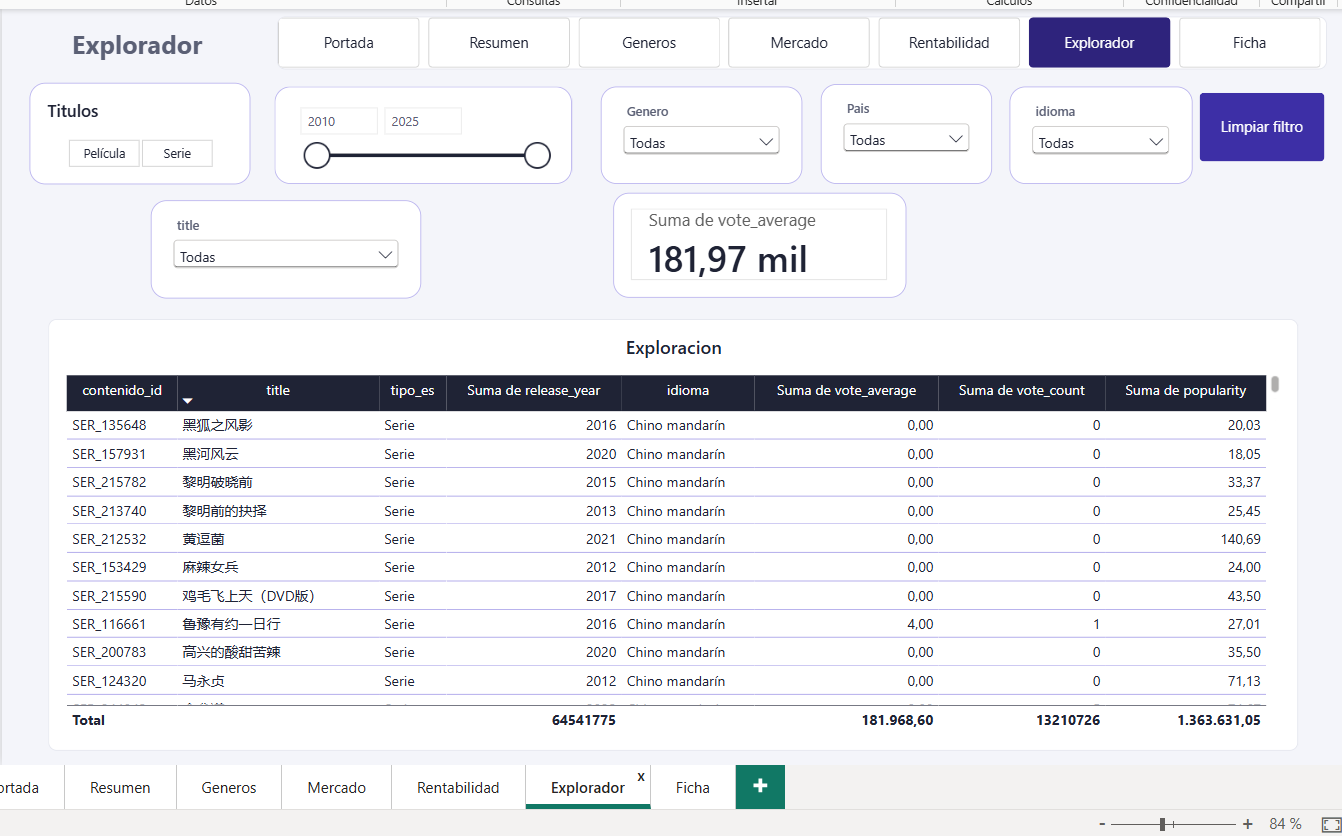

Layout of this report page (visuals, bound fields, positions):
{"tool":"powerbi","page":{"name":"Explorador","canvas":[1280,720],"ordinal":5},"visuals":[{"type":"textbox","box":[10,0,238.3,63.3],"z":0},{"type":"actionButton","box":[1140,80,119.1,65.5],"z":1000},{"type":"pageNavigator","box":[262,7,1000,50],"z":2000},{"type":"slicer","fields":{"Values":["dim_idioma.idioma"]},"box":[959,74,174,93],"z":3000},{"type":"slicer","fields":{"Values":["dim_pais.pais_nombre"]},"box":[780,72,163,95],"z":4000},{"type":"slicer","fields":{"Values":["dim_genero.genero_agrupado"]},"box":[570,74,192,93],"z":5000},{"type":"slicer","fields":{"Values":["fact_contenidos.release_year"]},"box":[259,74,283,93],"z":6000},{"type":"slicer","title":"Titulos","fields":{"Values":["fact_contenidos.tipo_es"]},"box":[26,70,210,97],"z":7000},{"type":"tableEx","title":"Exploracion","fields":{"Values":["fact_contenidos.contenido_id","fact_contenidos.title","fact_contenidos.tipo_es","Sum(fact_contenidos.release_year)","dim_idioma.idioma","Sum(fact_contenidos.vote_average)","Sum(fact_contenidos.vote_count)","Sum(fact_contenidos.popularity)"]},"box":[44.4,295.6,1190,411.1],"z":8000},{"type":"cardVisual","fields":{"Data":["Sum(fact_contenidos.vote_average)"]},"box":[582.2,175.6,278.9,100],"z":9000},{"type":"slicer","fields":{"Values":["fact_contenidos.title"]},"box":[142.2,182.2,257.8,93.3],"z":10000}]}

Visuals, with their boxes on the page's 1280x720 design canvas (x1, y1, x2, y2). These are canvas units, not pixel positions in the 1342x836 screenshot, which may show the page scaled, cropped or inside an application window:
textbox: [x1=10, y1=0, x2=248, y2=63]
actionButton: [x1=1140, y1=80, x2=1259, y2=146]
pageNavigator: [x1=262, y1=7, x2=1262, y2=57]
slicer - dim_idioma.idioma: [x1=959, y1=74, x2=1133, y2=167]
slicer - dim_pais.pais_nombre: [x1=780, y1=72, x2=943, y2=167]
slicer - dim_genero.genero_agrupado: [x1=570, y1=74, x2=762, y2=167]
slicer - fact_contenidos.release_year: [x1=259, y1=74, x2=542, y2=167]
"Titulos" slicer: [x1=26, y1=70, x2=236, y2=167]
"Exploracion" tableEx: [x1=44, y1=296, x2=1234, y2=707]
cardVisual - Sum(fact_contenidos.vote_average): [x1=582, y1=176, x2=861, y2=276]
slicer - fact_contenidos.title: [x1=142, y1=182, x2=400, y2=276]
